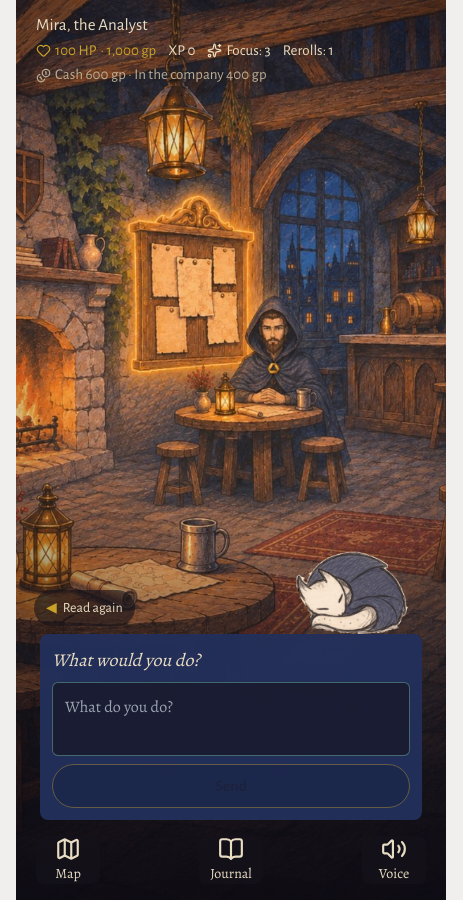
Test case: new location with an NPC › a reckless act escalates to the Master, who deals damage: toast, ticking HP
The width and height of the screenshot is (463, 900).
Earlier steps of the test are not shown.
Later steps or results of the test are not shown.
Type "visit the docks warehouse" into the text box at x=231, y=719, box x1=52 y1=682 x2=410 y2=756
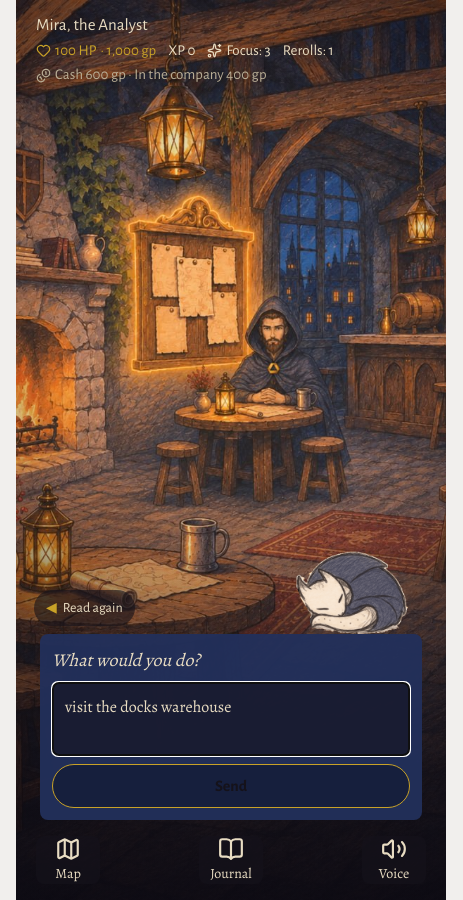
Click the button "Send" at x=231, y=786, box x1=52 y1=764 x2=410 y2=808
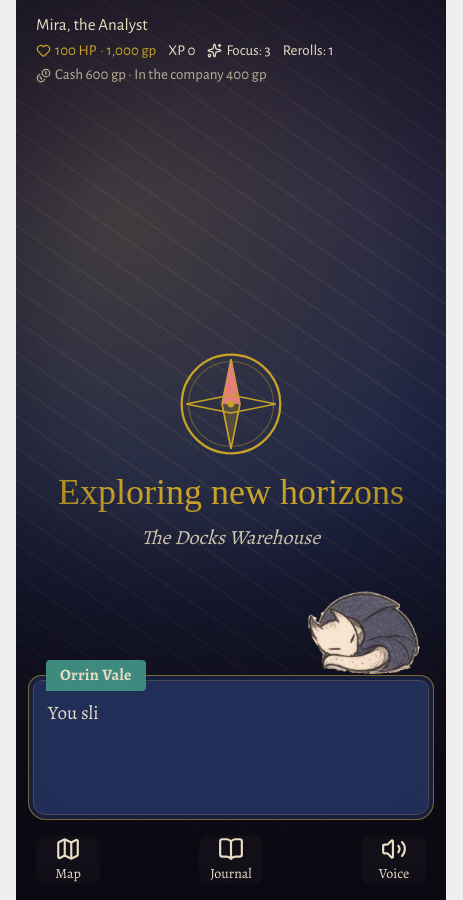
Result: the element with test id "dialogue-box" is shown at x1=28 y1=674 x2=434 y2=820
